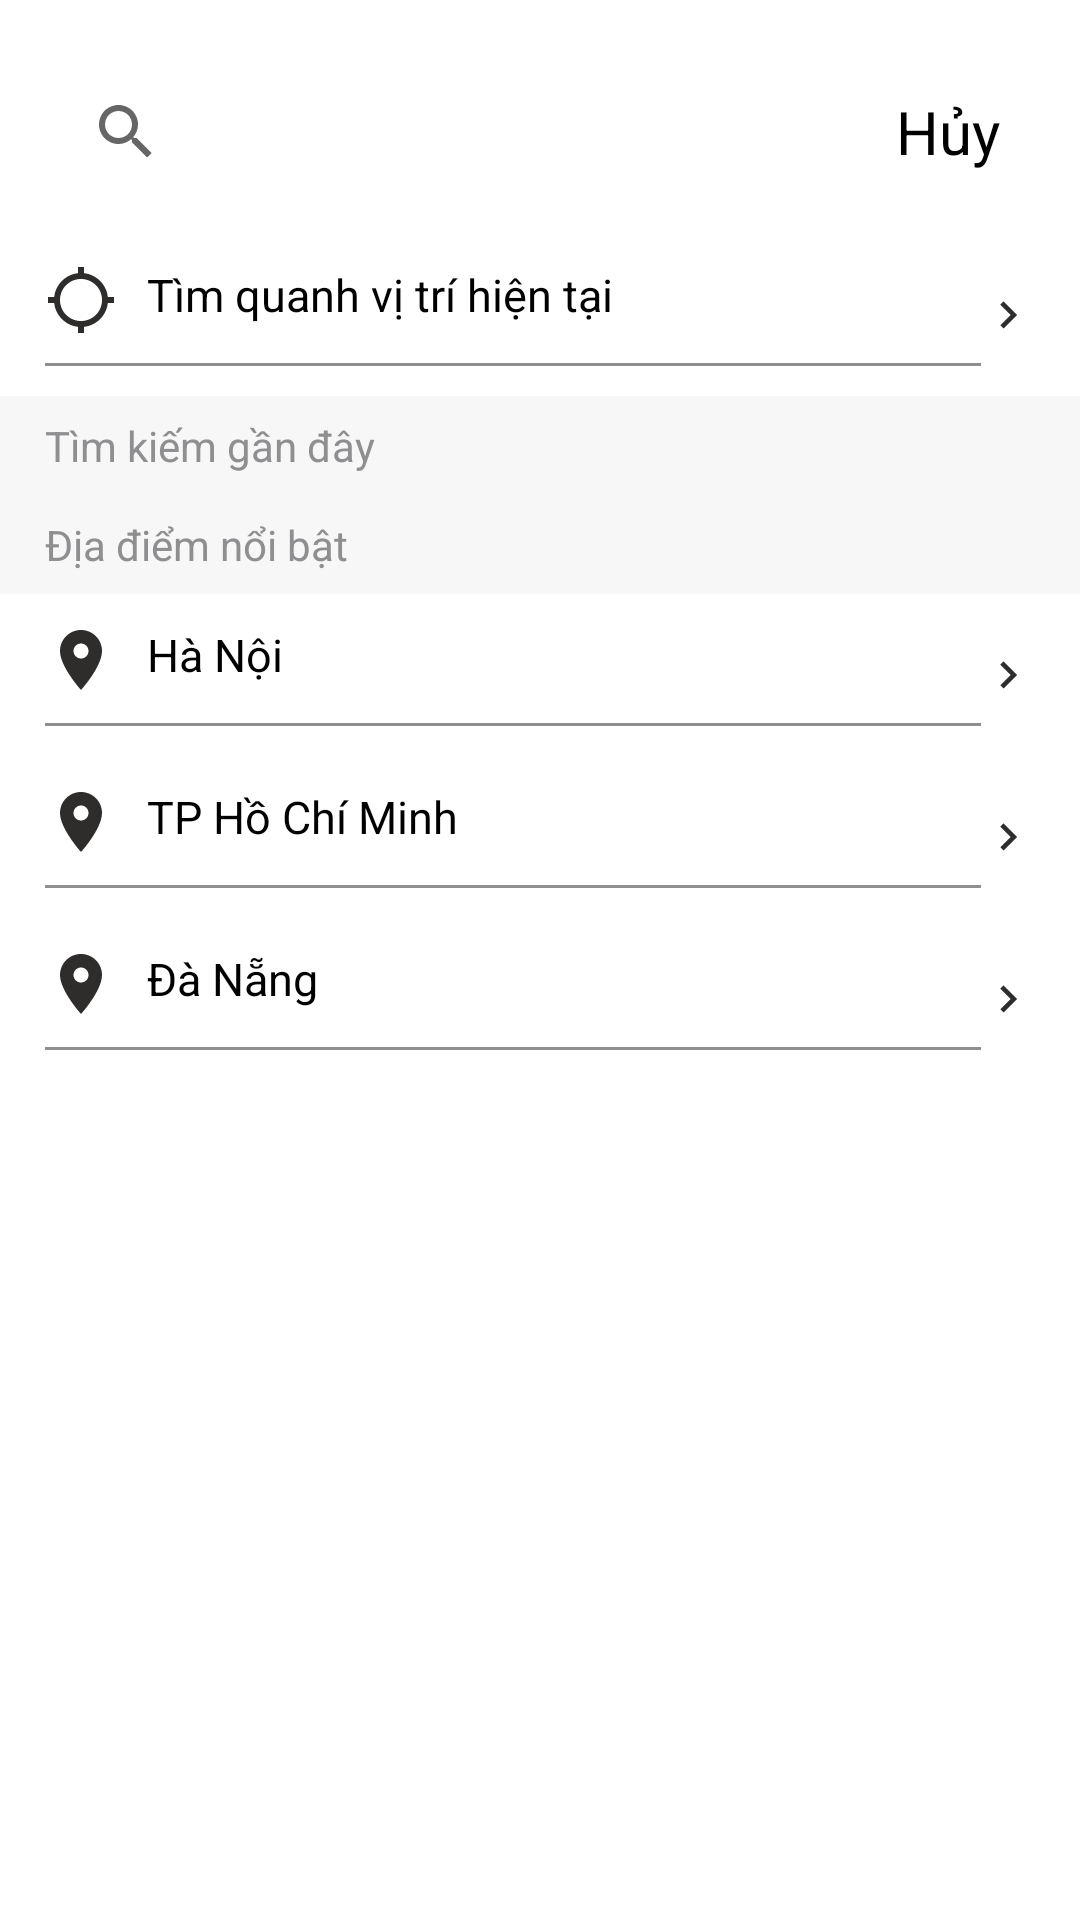

Screen size 1080w x 1920h. Icon name, then its center in pixels as point (x, y):
arrow forward: point (1008, 315), point (1008, 675), point (1008, 837), point (1008, 999)
location on: point (81, 660), point (81, 822), point (81, 984)
